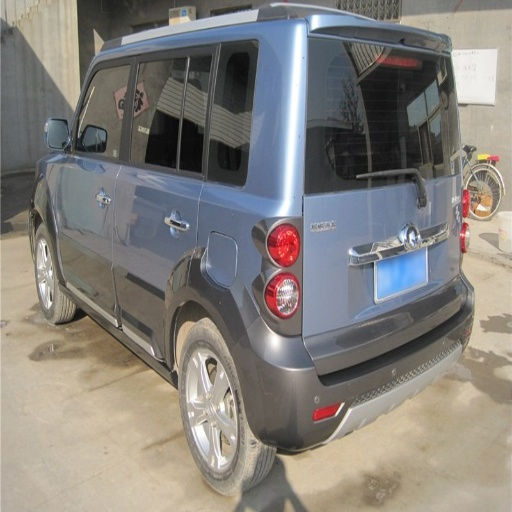back_bumper: (241, 298, 449, 454)
back_left_door: (115, 63, 240, 345)
tailgate: (347, 194, 451, 338)
trunk: (285, 185, 454, 368)
